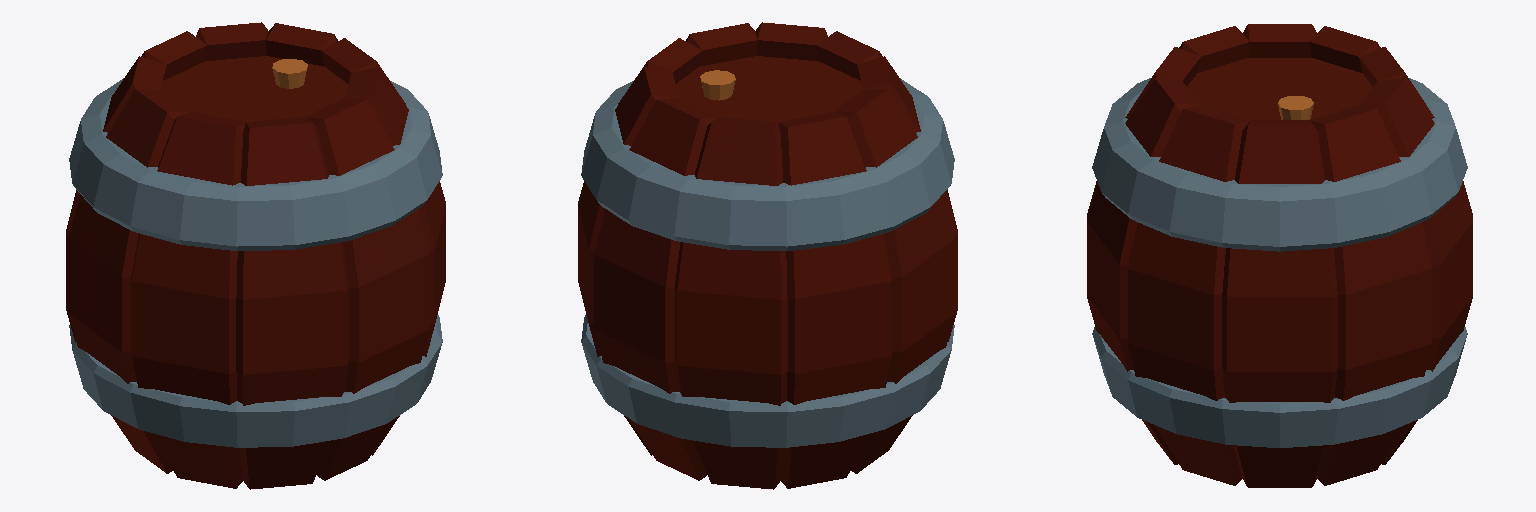
The model's file is barrel.obj.
3 renders of one model, left to right at view 1: azimuth 30°, elevation 25°; view 2: azimuth 150°, elevation 25°; view 3: azimuth 270°, elevation 25°, orthographic.
Visible parts, largest first — view 1: barrel_Cylinder.043; view 2: barrel_Cylinder.043; view 3: barrel_Cylinder.043.
Boxes of the visible parts, <box> form: barrel_Cylinder.043: <box>66,22,445,489</box>; barrel_Cylinder.043: <box>578,22,957,489</box>; barrel_Cylinder.043: <box>1087,24,1472,487</box>.
Bounding box in the file's own units: 0.9415 × 1 × 0.9684.